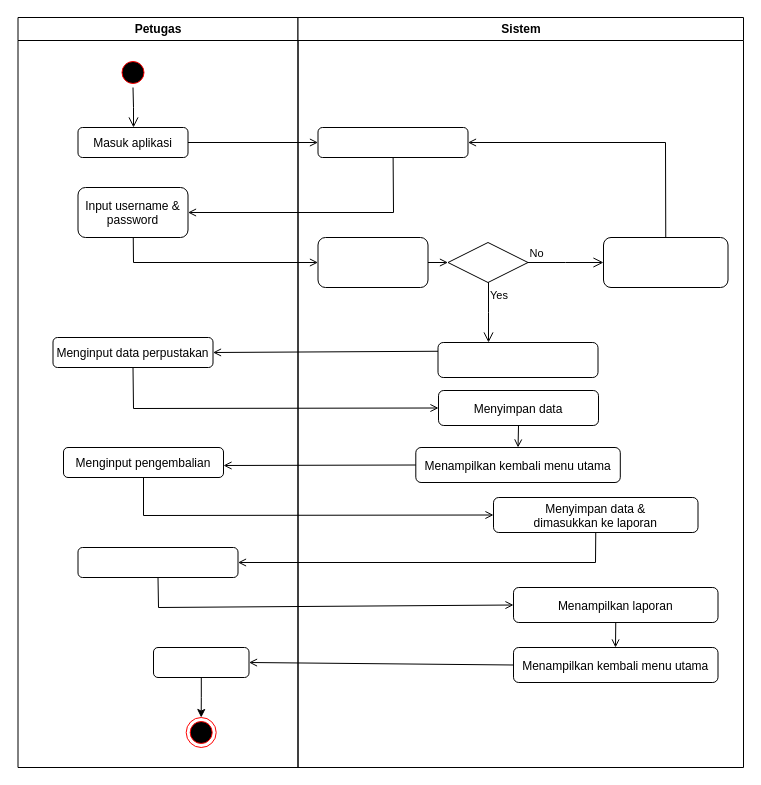
The diagram is 761 pixels wide and 785 high, and some of its shapes have lost their labels. Each missing label, with the centre of its shape:
Logout: [200,662]
Melihat laporan: [157,562]
Menampilkan menu login: [392,142]
Menampilkan menu utama: [517,360]
Password & username salah: [665,262]
Verifikasi username & password: [372,262]
